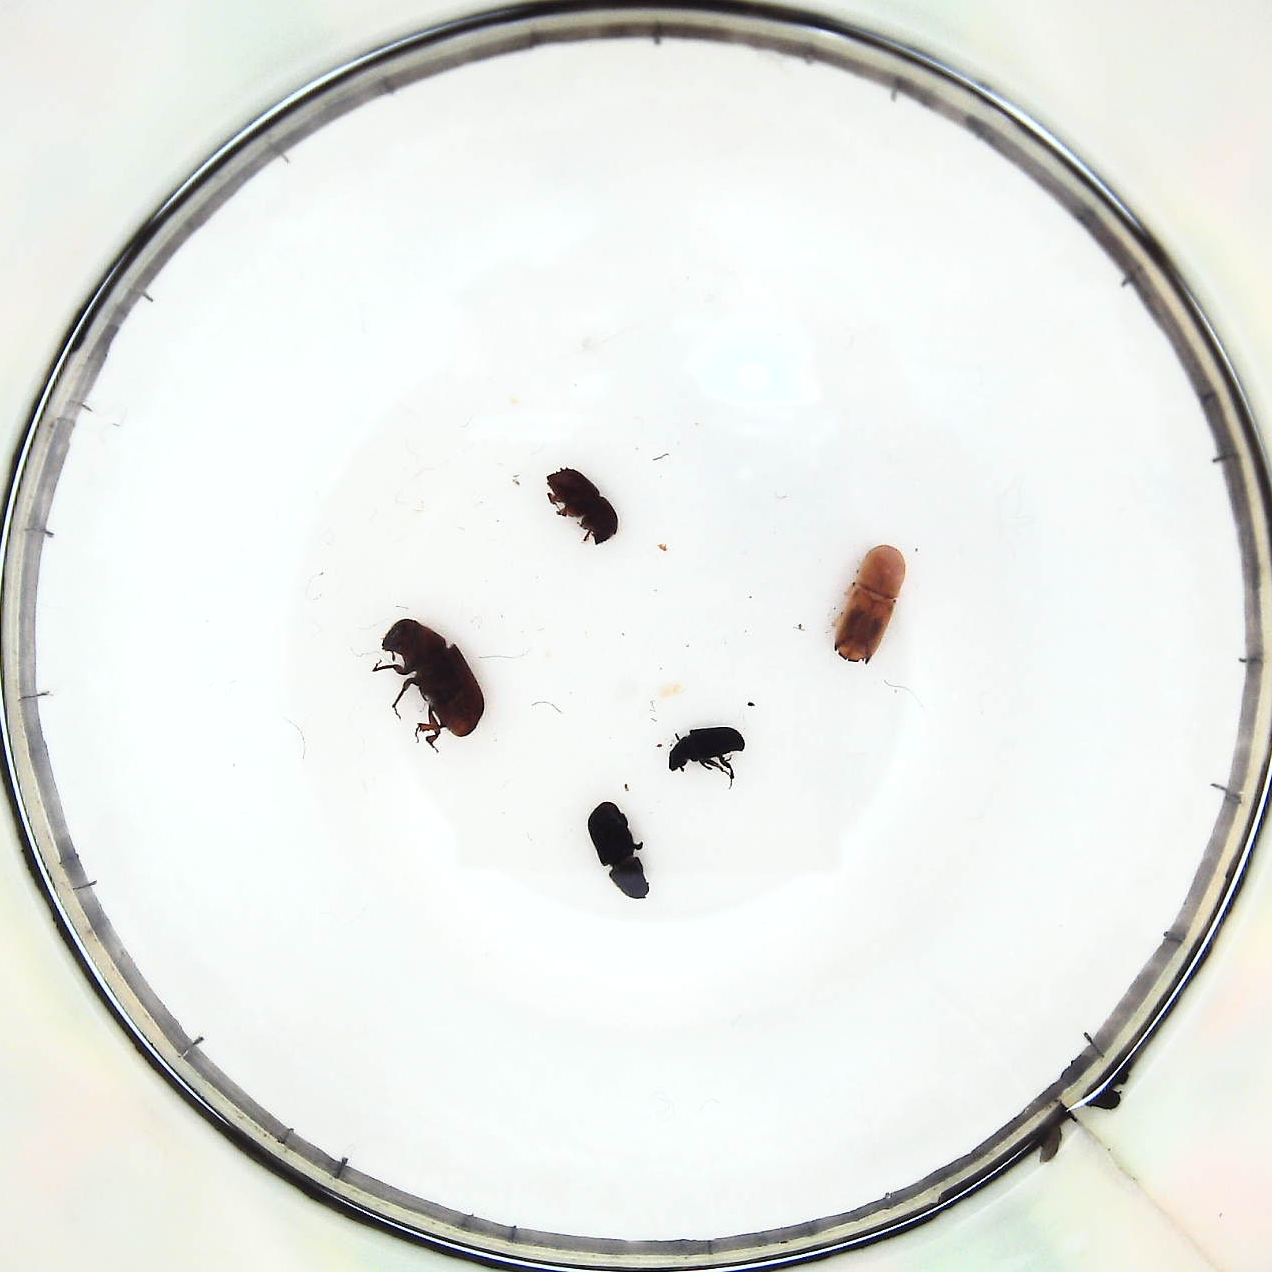Boerner: (833, 544, 906, 667)
Leconte: (379, 619, 486, 740)
Linnaeus: (543, 467, 619, 549)
armandi: (585, 803, 655, 900)
coleoptera: (667, 730, 745, 779)
